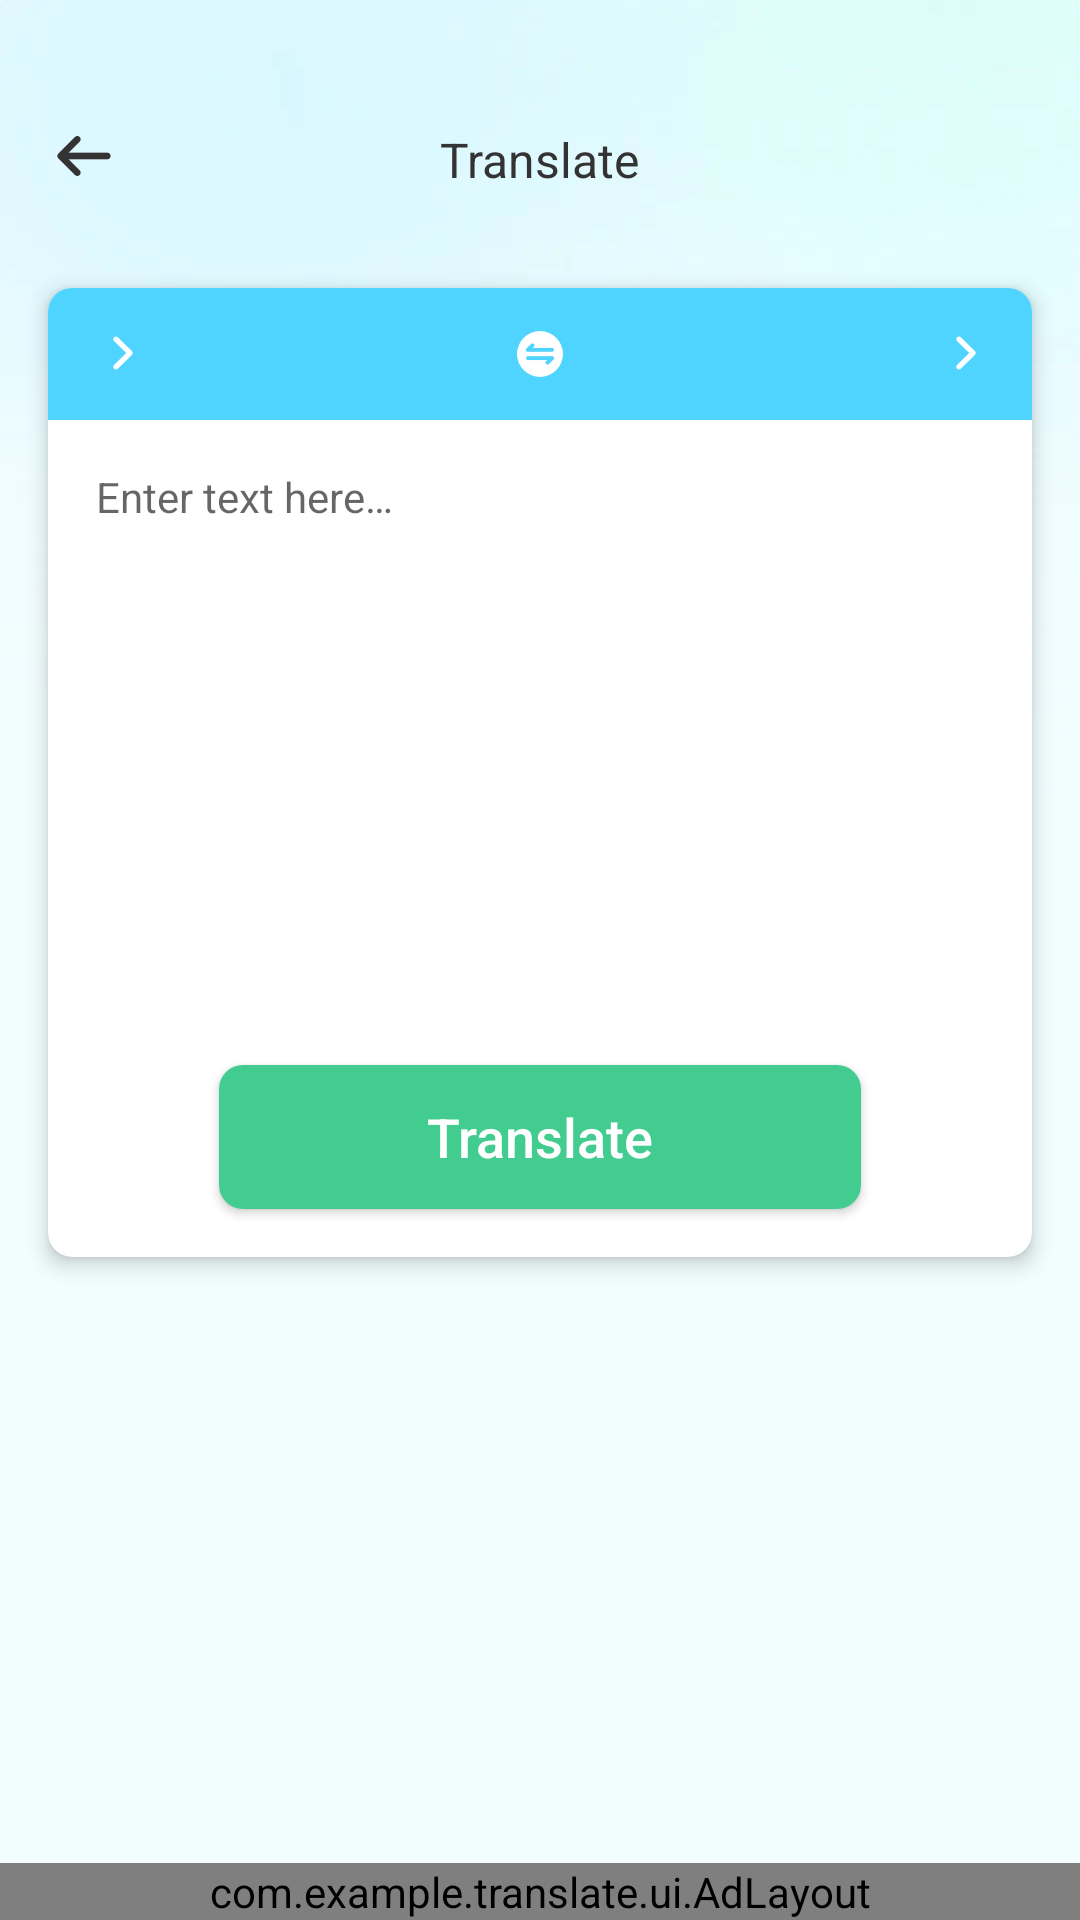

Screen size 1080px×1920px. Icon name, then its center in pixels as point (x, y):
back: point (84, 156)
switch: point (540, 354)
translate right: point (123, 353), point (966, 353)
